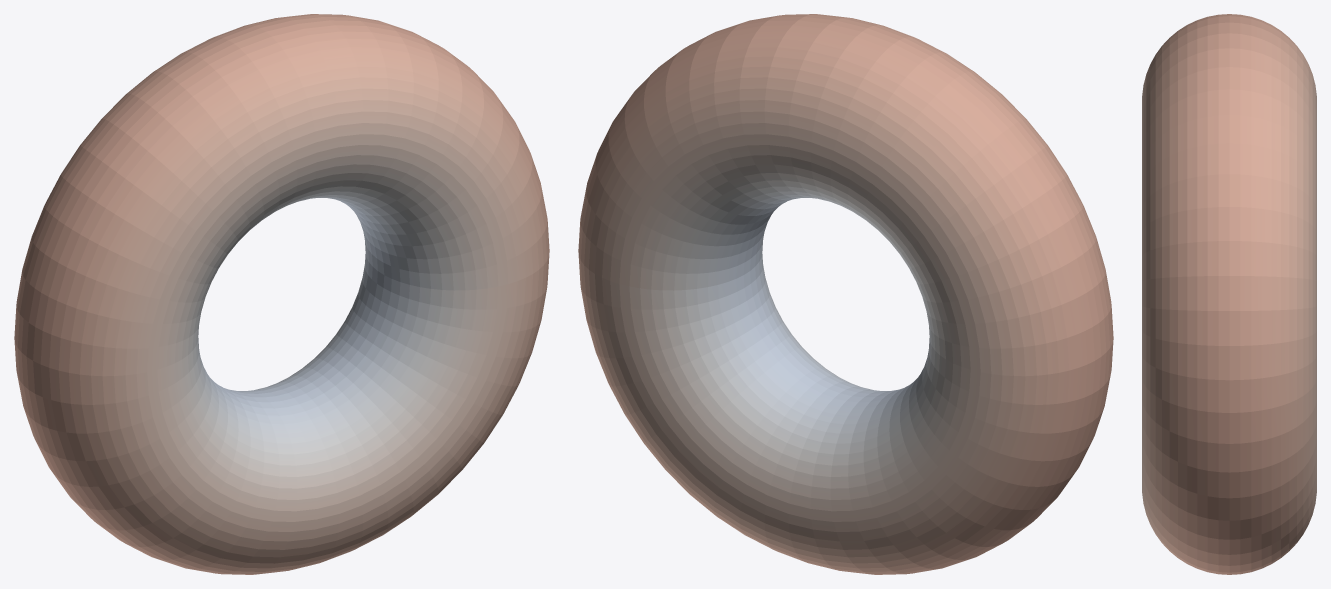
The picture shows the model from 3 angles, left to right: view 1: azimuth 30°, elevation 25°; view 2: azimuth 150°, elevation 25°; view 3: azimuth 270°, elevation 25°; orthographic projection. The views are drawn at different scales.
Parts seen in each view (by area): view 1: world; view 2: world; view 3: world.
Boxes of the visible parts, x1,y1,x2,y2 form: world: [14, 14, 549, 574]; world: [578, 14, 1113, 574]; world: [1142, 14, 1316, 574].
Size of the model in its own units: 25.2 by 25.15 by 7.85.
